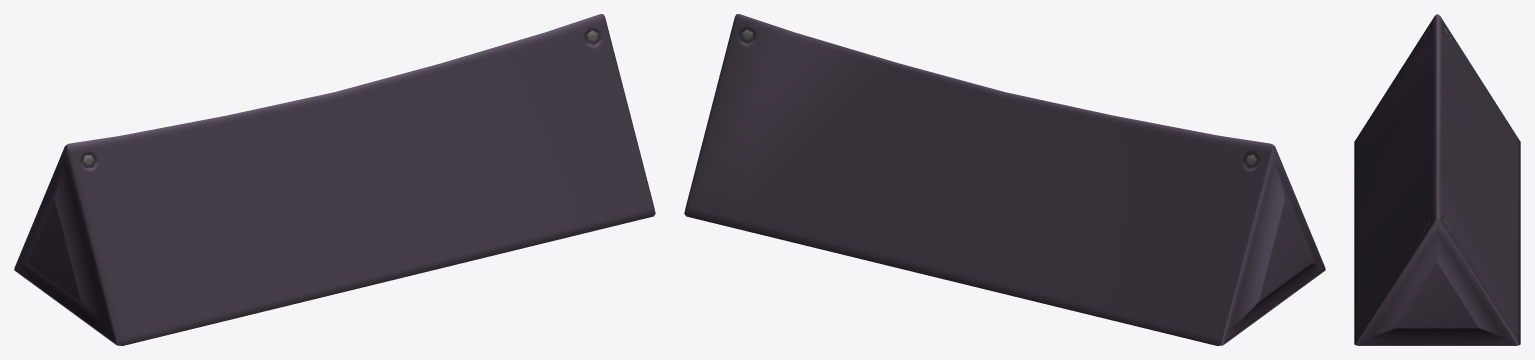
Rendered from ha_h__name_plate.glb.
3 renders of one model, left to right at view 1: azimuth 30°, elevation 25°; view 2: azimuth 150°, elevation 25°; view 3: azimuth 270°, elevation 25°, orthographic. The views are drawn at different scales.
Parts seen in each view (by area): view 1: Object_2; view 2: Object_2; view 3: Object_2.
Boxes of the visible parts, x1=… form: Object_2: x1=14, y1=14, x2=655, y2=345; Object_2: x1=684, y1=14, x2=1325, y2=345; Object_2: x1=1354, y1=14, x2=1520, y2=345.
Bounding box in the file's own units: 35.23 × 9.81 × 11.6.
Materials: 1 (1 with a texture image).
